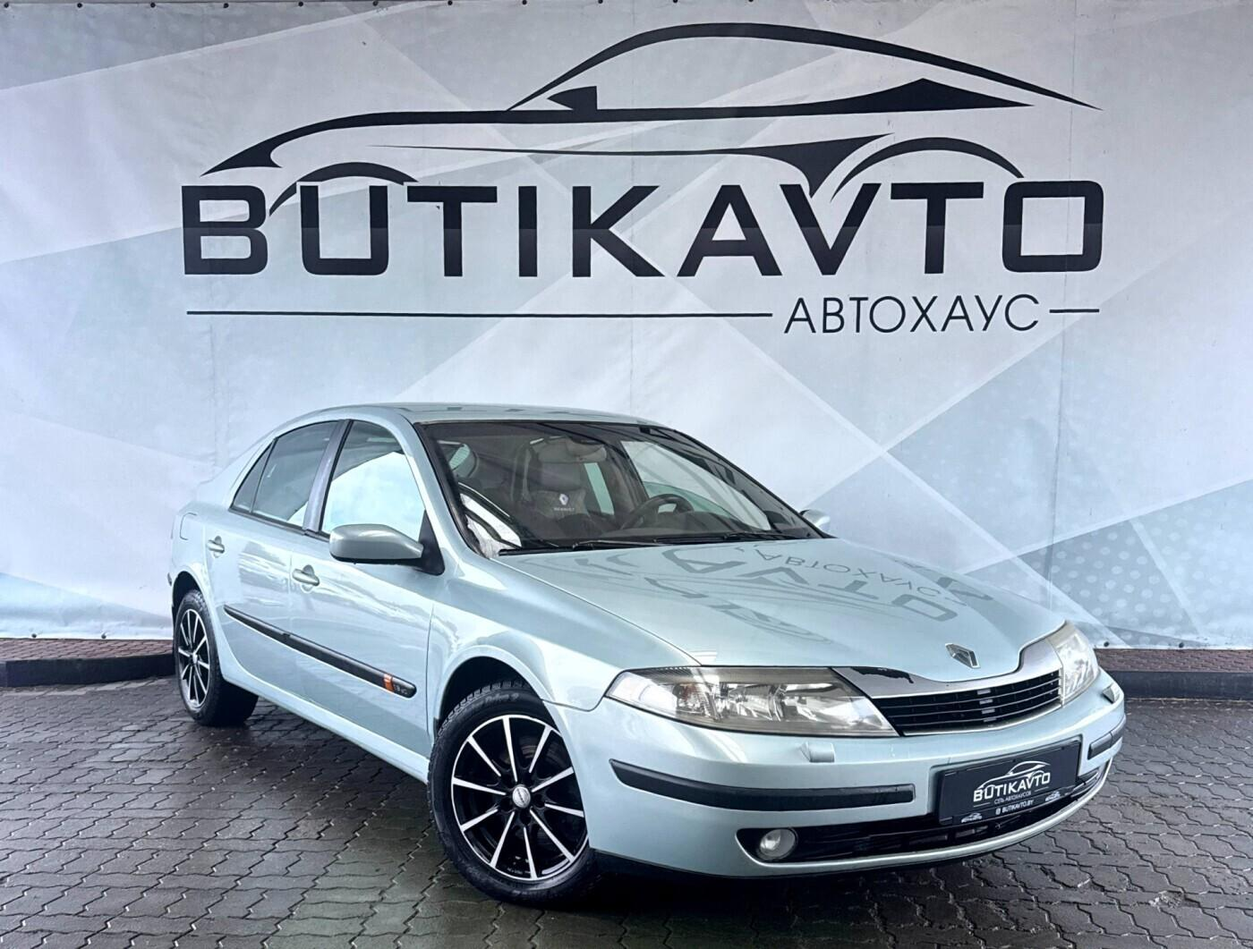Laguna_2001-2005: (167, 403, 1125, 905)
